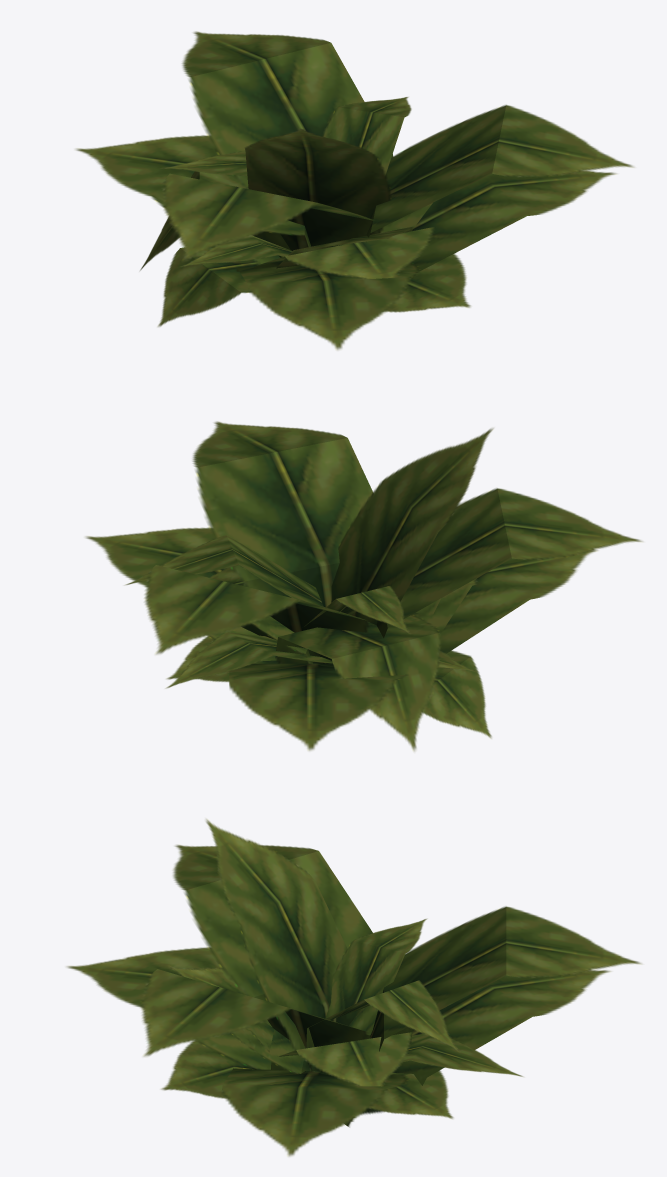
Rendered from lp_fern_b.glb.
3 renders of one model, top to bottom at view 1: azimuth 30°, elevation 25°; view 2: azimuth 150°, elevation 25°; view 3: azimuth 270°, elevation 25°, orthographic. The views are drawn at different scales.
Visible parts, largest first — view 1: lp_fern_b; view 2: lp_fern_b; view 3: lp_fern_b.
Boxes of the visible parts, <box> form: lp_fern_b: <box>76,31,634,350</box>; lp_fern_b: <box>85,421,642,751</box>; lp_fern_b: <box>66,819,641,1156</box>.
Bounding box in the file's own units: 0.8368 × 0.3738 × 0.8536.
1 material, 1 textured.
